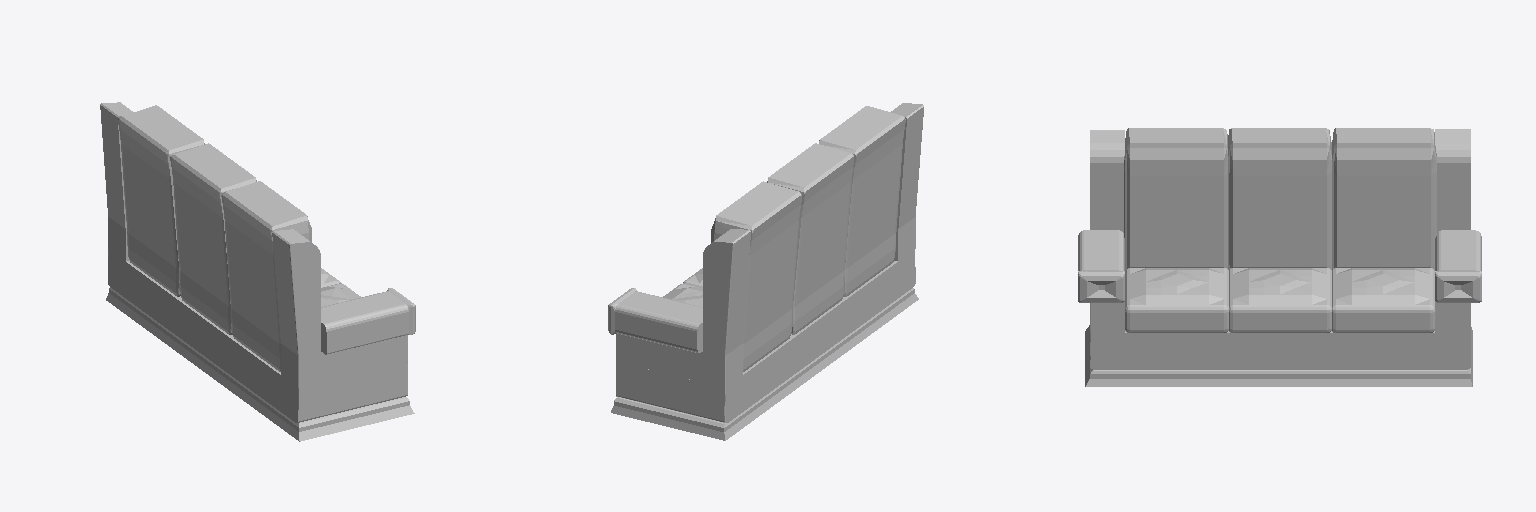
Rendered from sillon2.obj.
3 views of the same model, side by side, from view 1: azimuth 30°, elevation 25°; view 2: azimuth 150°, elevation 25°; view 3: azimuth 270°, elevation 25° (orthographic).
Parts seen in each view (by area): view 1: sillon2:polySurface5; view 2: sillon2:polySurface5; view 3: sillon2:polySurface5.
Part boxes in pixels (x1,y1,x2,y2): sillon2:polySurface5: (100,102,415,441); sillon2:polySurface5: (608,103,923,440); sillon2:polySurface5: (1078,128,1481,386).
Size of the model in its own units: 0.8182 by 1.29 by 2.33.